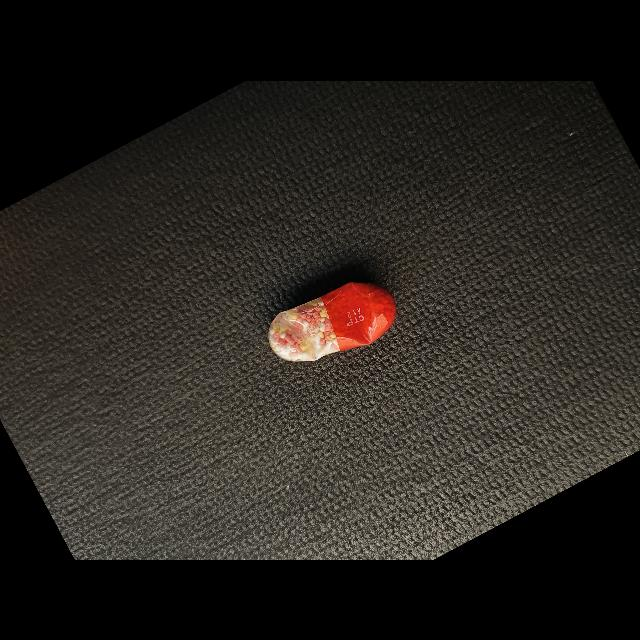Defective Capsule: (268, 282, 397, 361)
